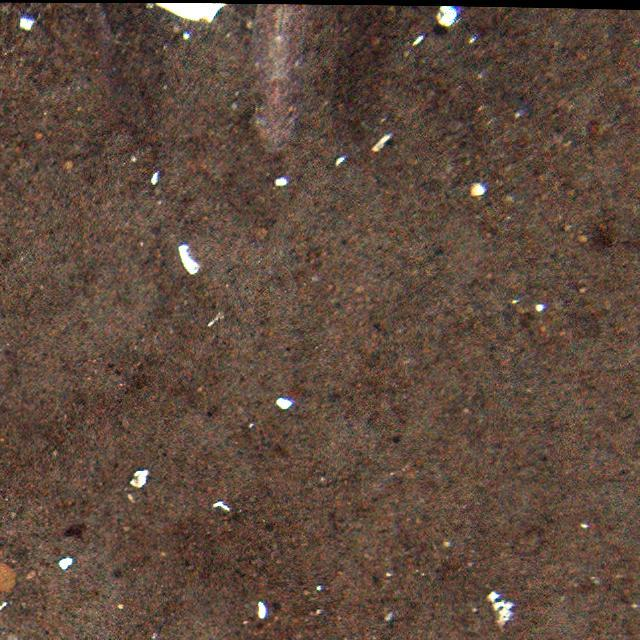roundfish: (244, 6, 310, 152)
